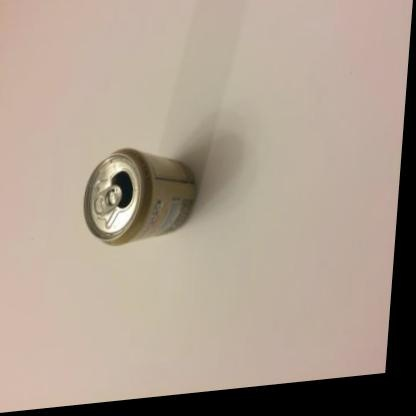trash: (84, 148, 196, 244)
